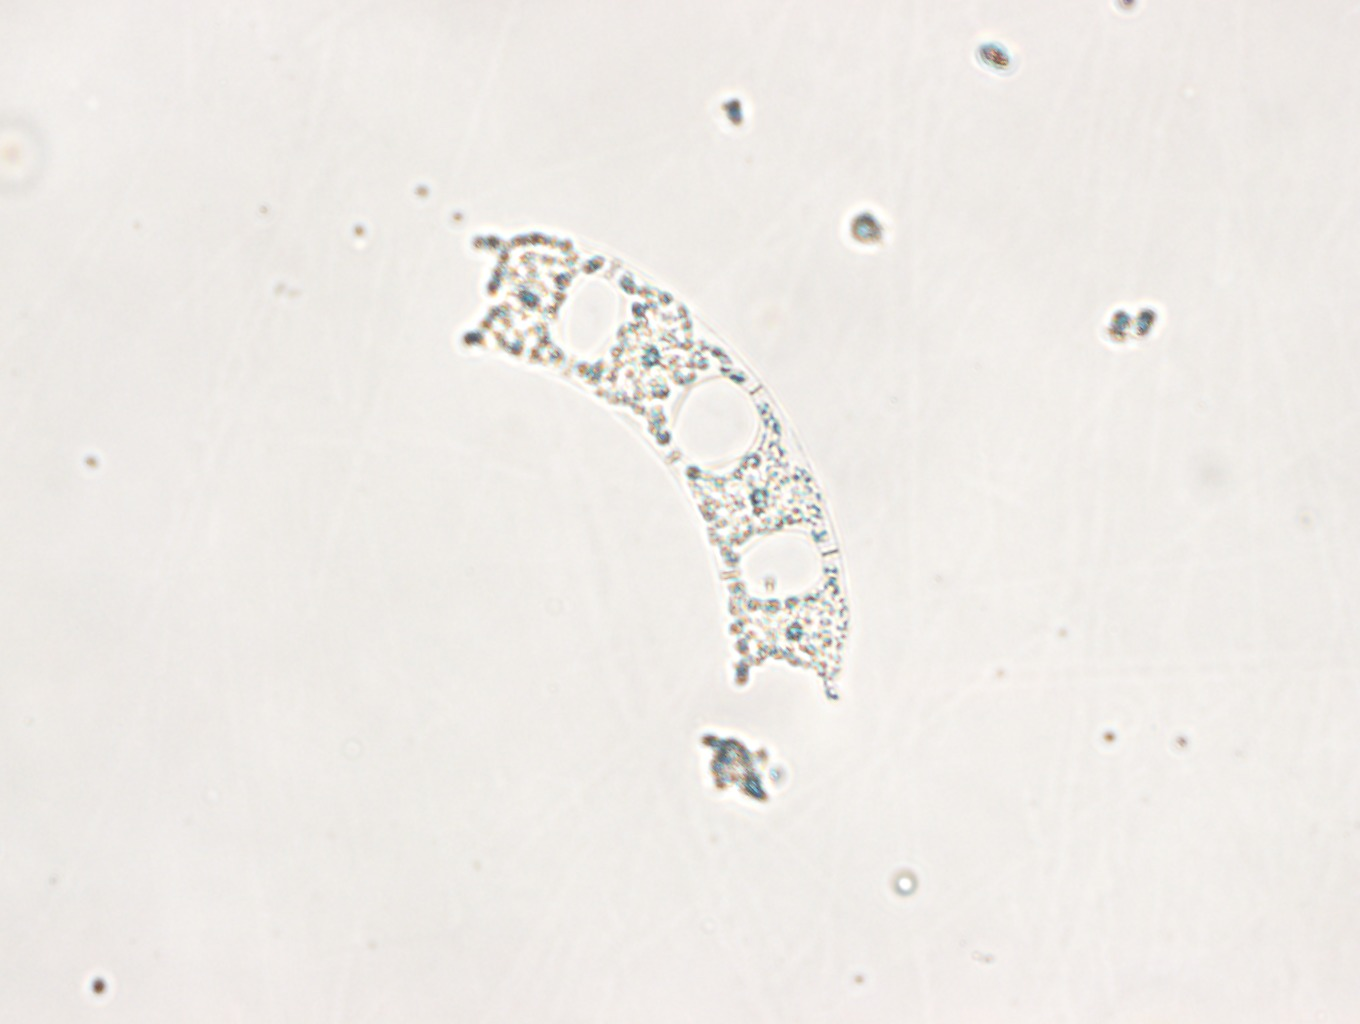eucampia: (460, 232, 851, 700)
